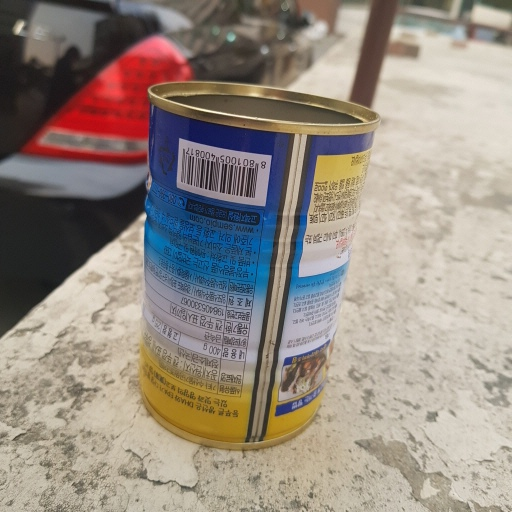Metal_1: (142, 79, 379, 440)
